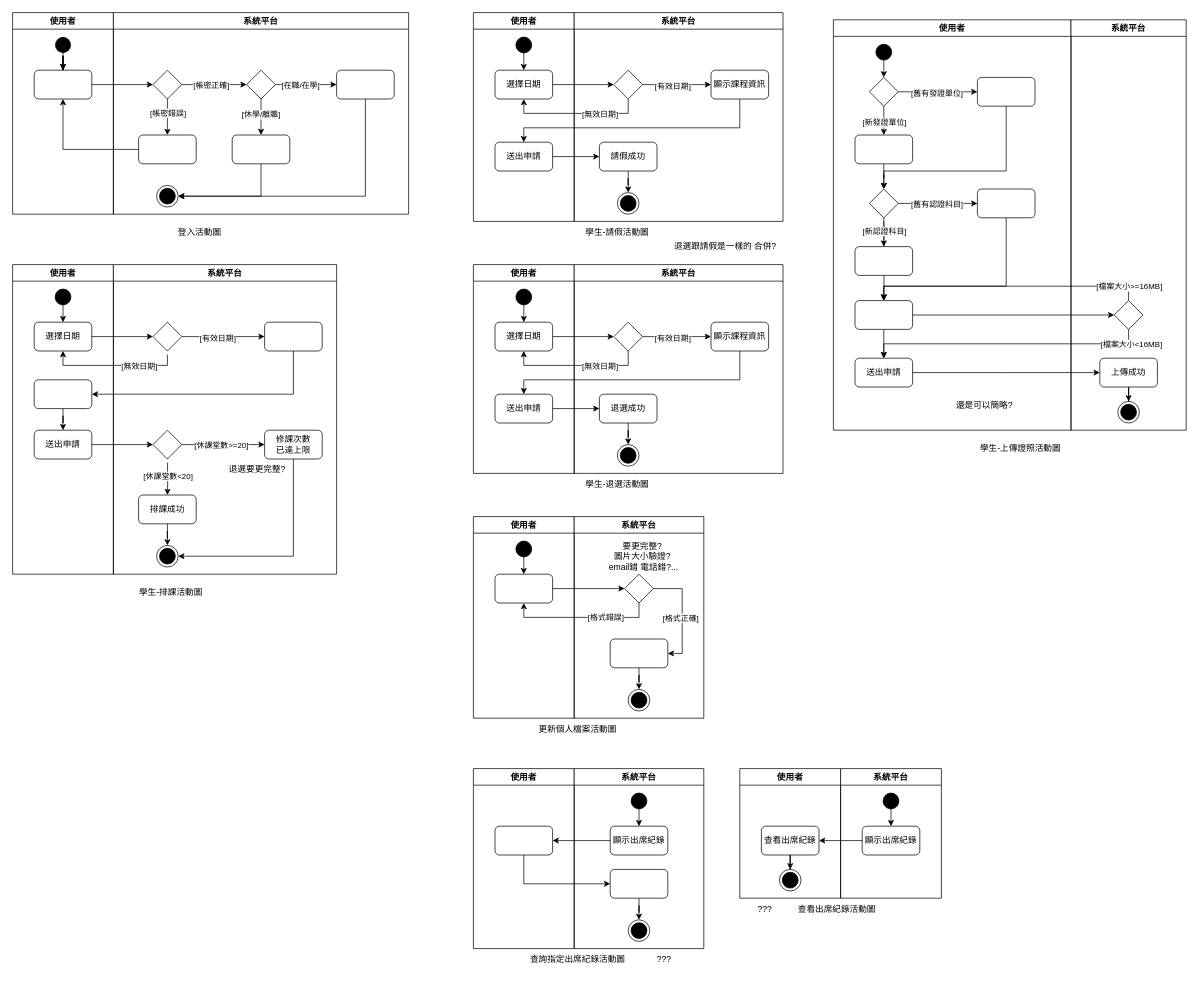
Some shapes in this 1199 by 983 pixel diagram are drawn without their labels. Here are the shapes that lost their labels. From the top down, the centre of each, then its label:
At point (62, 84): "輸入帳密".
At point (365, 84): "登入系統".
At point (1006, 91): "選擇發證單位".
At point (167, 149): "帳號錯誤".
At point (260, 149): "無登入權限".
At point (883, 149): "輸入發證單位".
At point (1006, 203): "選擇認證科目".
At point (883, 260): "輸入認證科目".
At point (883, 314): "上傳證照".
At point (293, 336): "顯示符合條件之課程資料".
At point (62, 394): "選擇上課時段".
At point (523, 588): "輸入更新內容".
At point (638, 653): "更新成功".
At point (523, 840): "選擇指定狀態之出席紀錄".
At point (638, 883): "顯示該狀態之出席紀錄".
